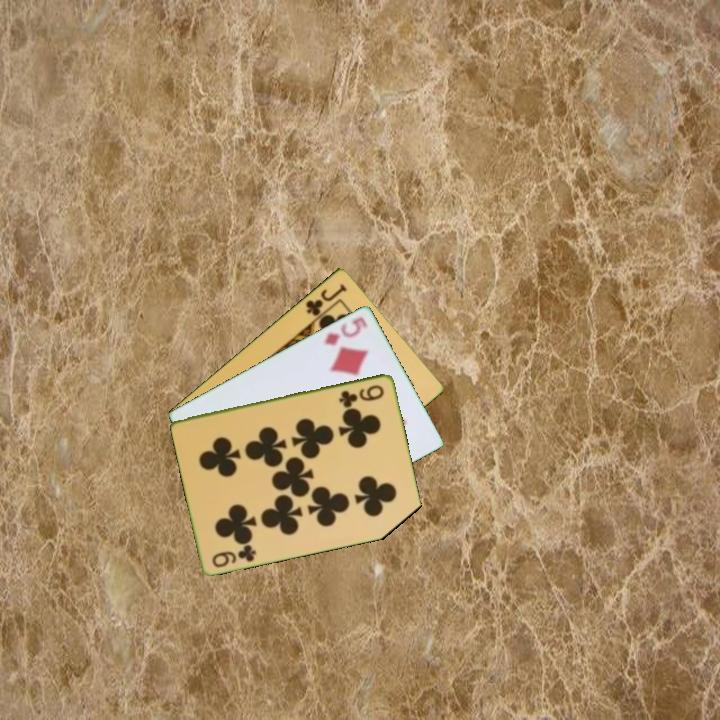5d: (321, 313, 371, 348)
9c: (209, 540, 259, 570), (336, 381, 387, 408)
Jc: (302, 279, 349, 319)
